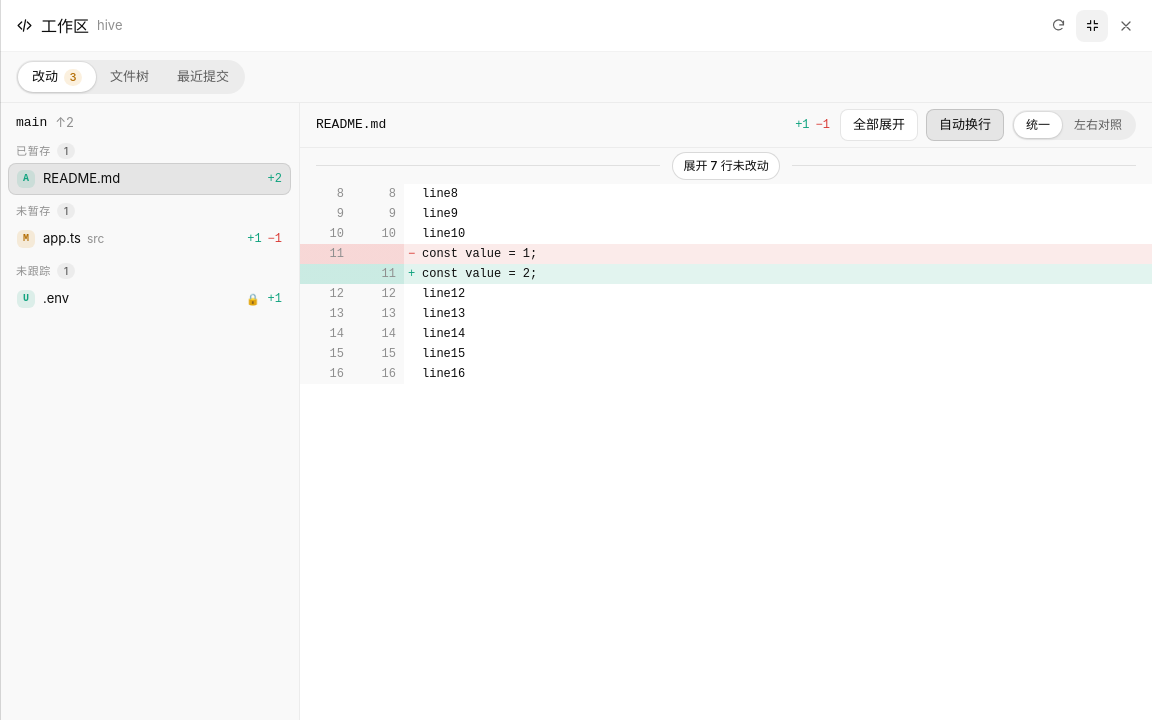
Test case: WorkspacePanel › 疑似密钥文件：默认不显示，房主确认后带 reveal 再取
Click the button "U .env 🔒 +1": (26, 299) left=8, top=283, right=291, bottom=314
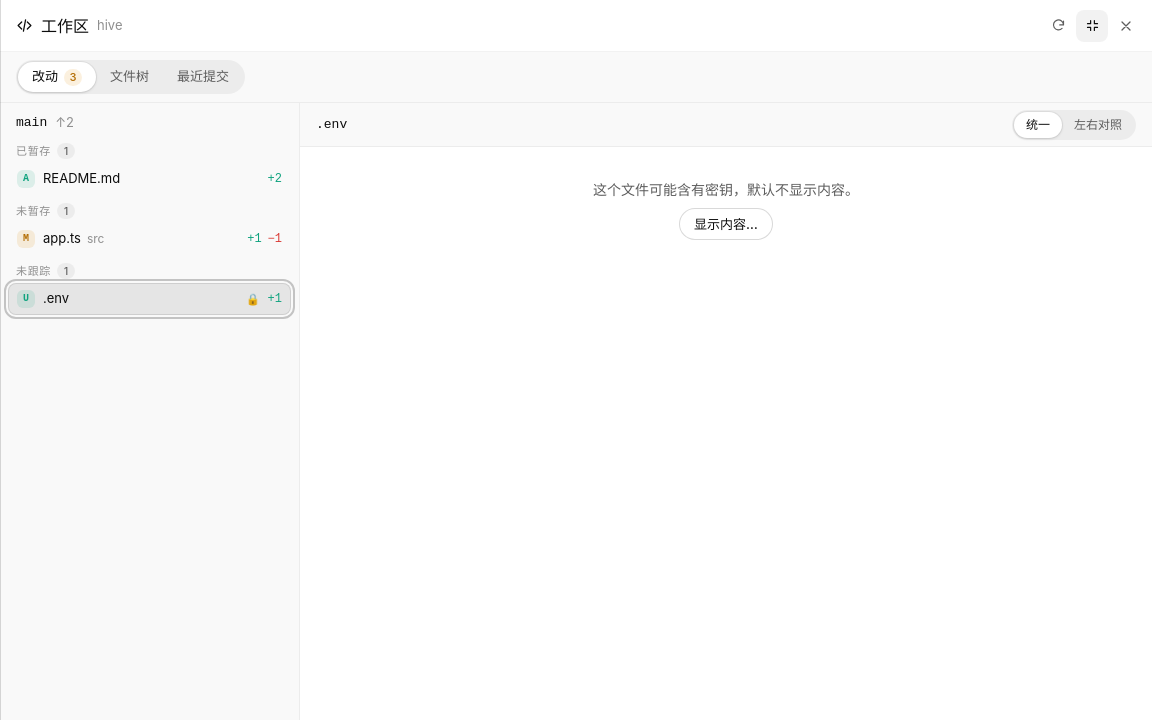
Result: the text "这个文件可能含有密钥，默认不显示内容。" is shown at left=593, top=181, right=859, bottom=198
Click the button "显示内容…": (726, 224) left=679, top=208, right=773, bottom=240
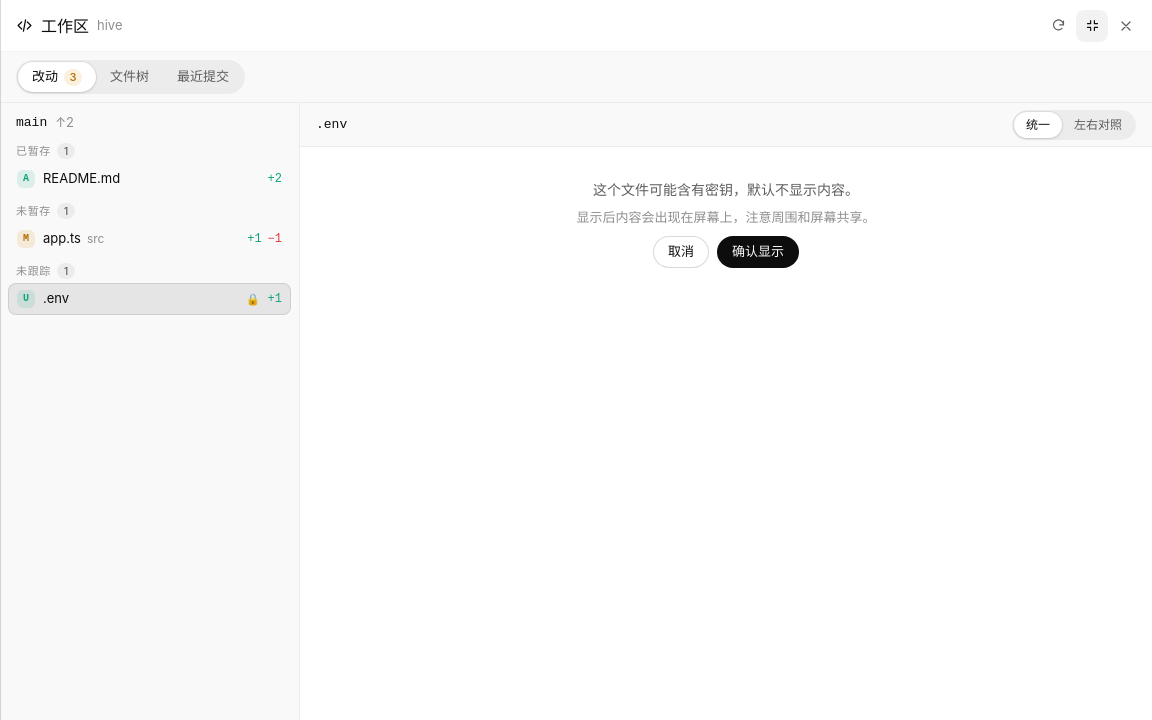
Click the button "确认显示": (758, 252) left=717, top=236, right=799, bottom=268
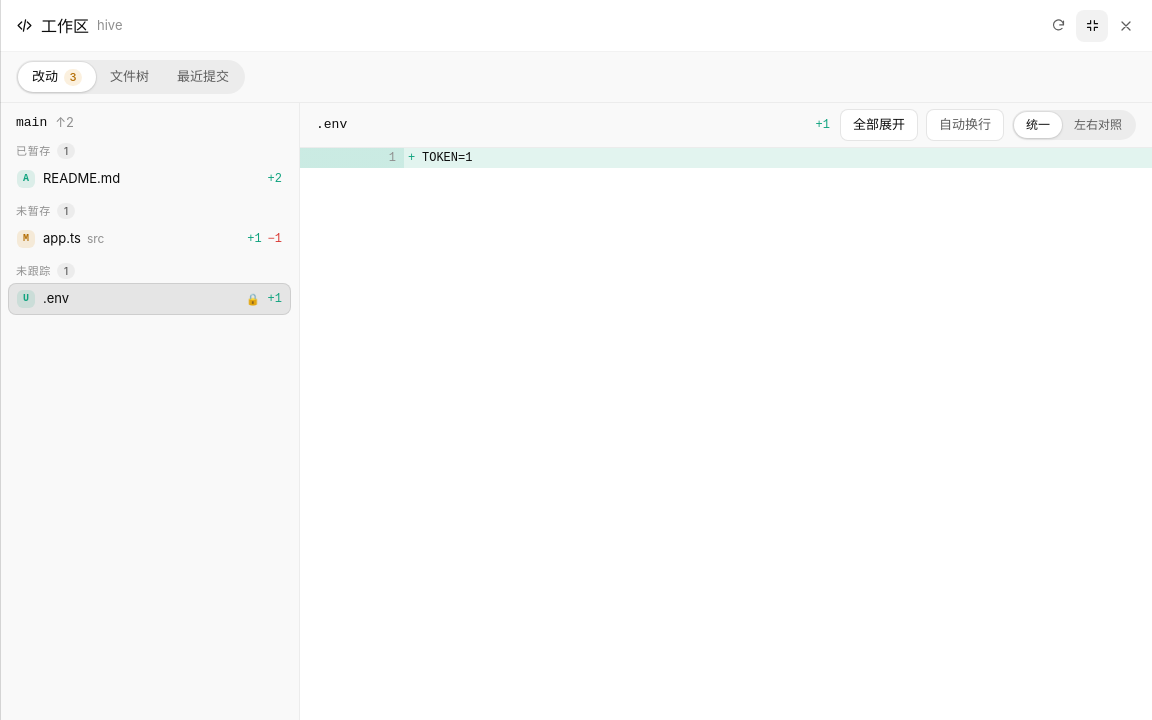
Result: the text "TOKEN=1" is shown at left=422, top=150, right=472, bottom=164
